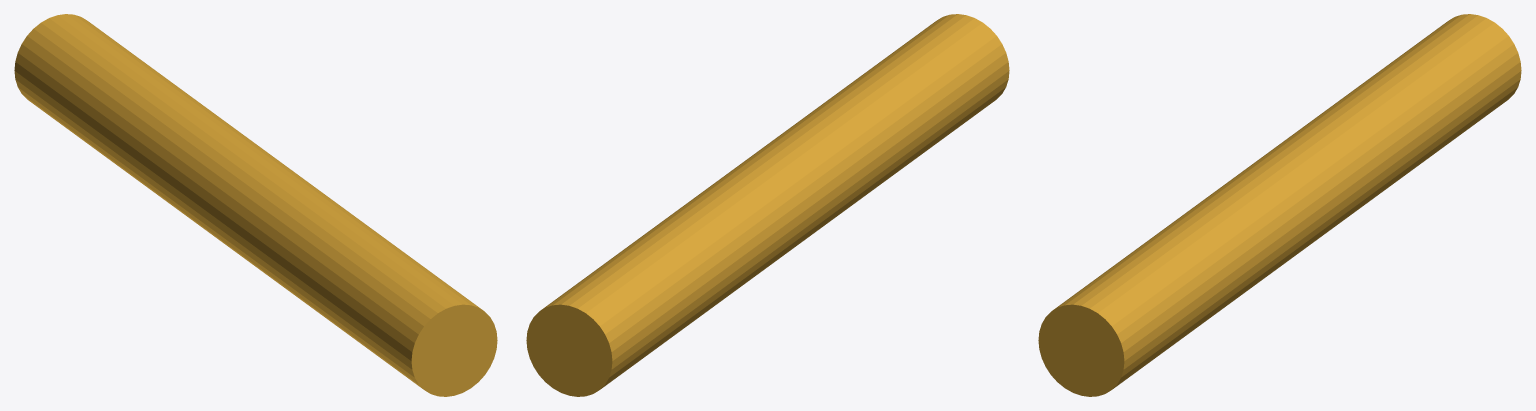
The model's file is sausage.obj.
3 renders of one model, left to right at view 1: azimuth 30°, elevation 25°; view 2: azimuth 150°, elevation 25°; view 3: azimuth 330°, elevation 25°, orthographic.
Parts seen in each view (by area): view 1: sausage; view 2: sausage; view 3: sausage.
Part boxes in pixels (<box>): sausage: <box>14,14,497,396</box>; sausage: <box>526,14,1009,396</box>; sausage: <box>1038,14,1521,396</box>.
Bounding box in the file's own units: 0.02 × 0.02 × 0.16.
